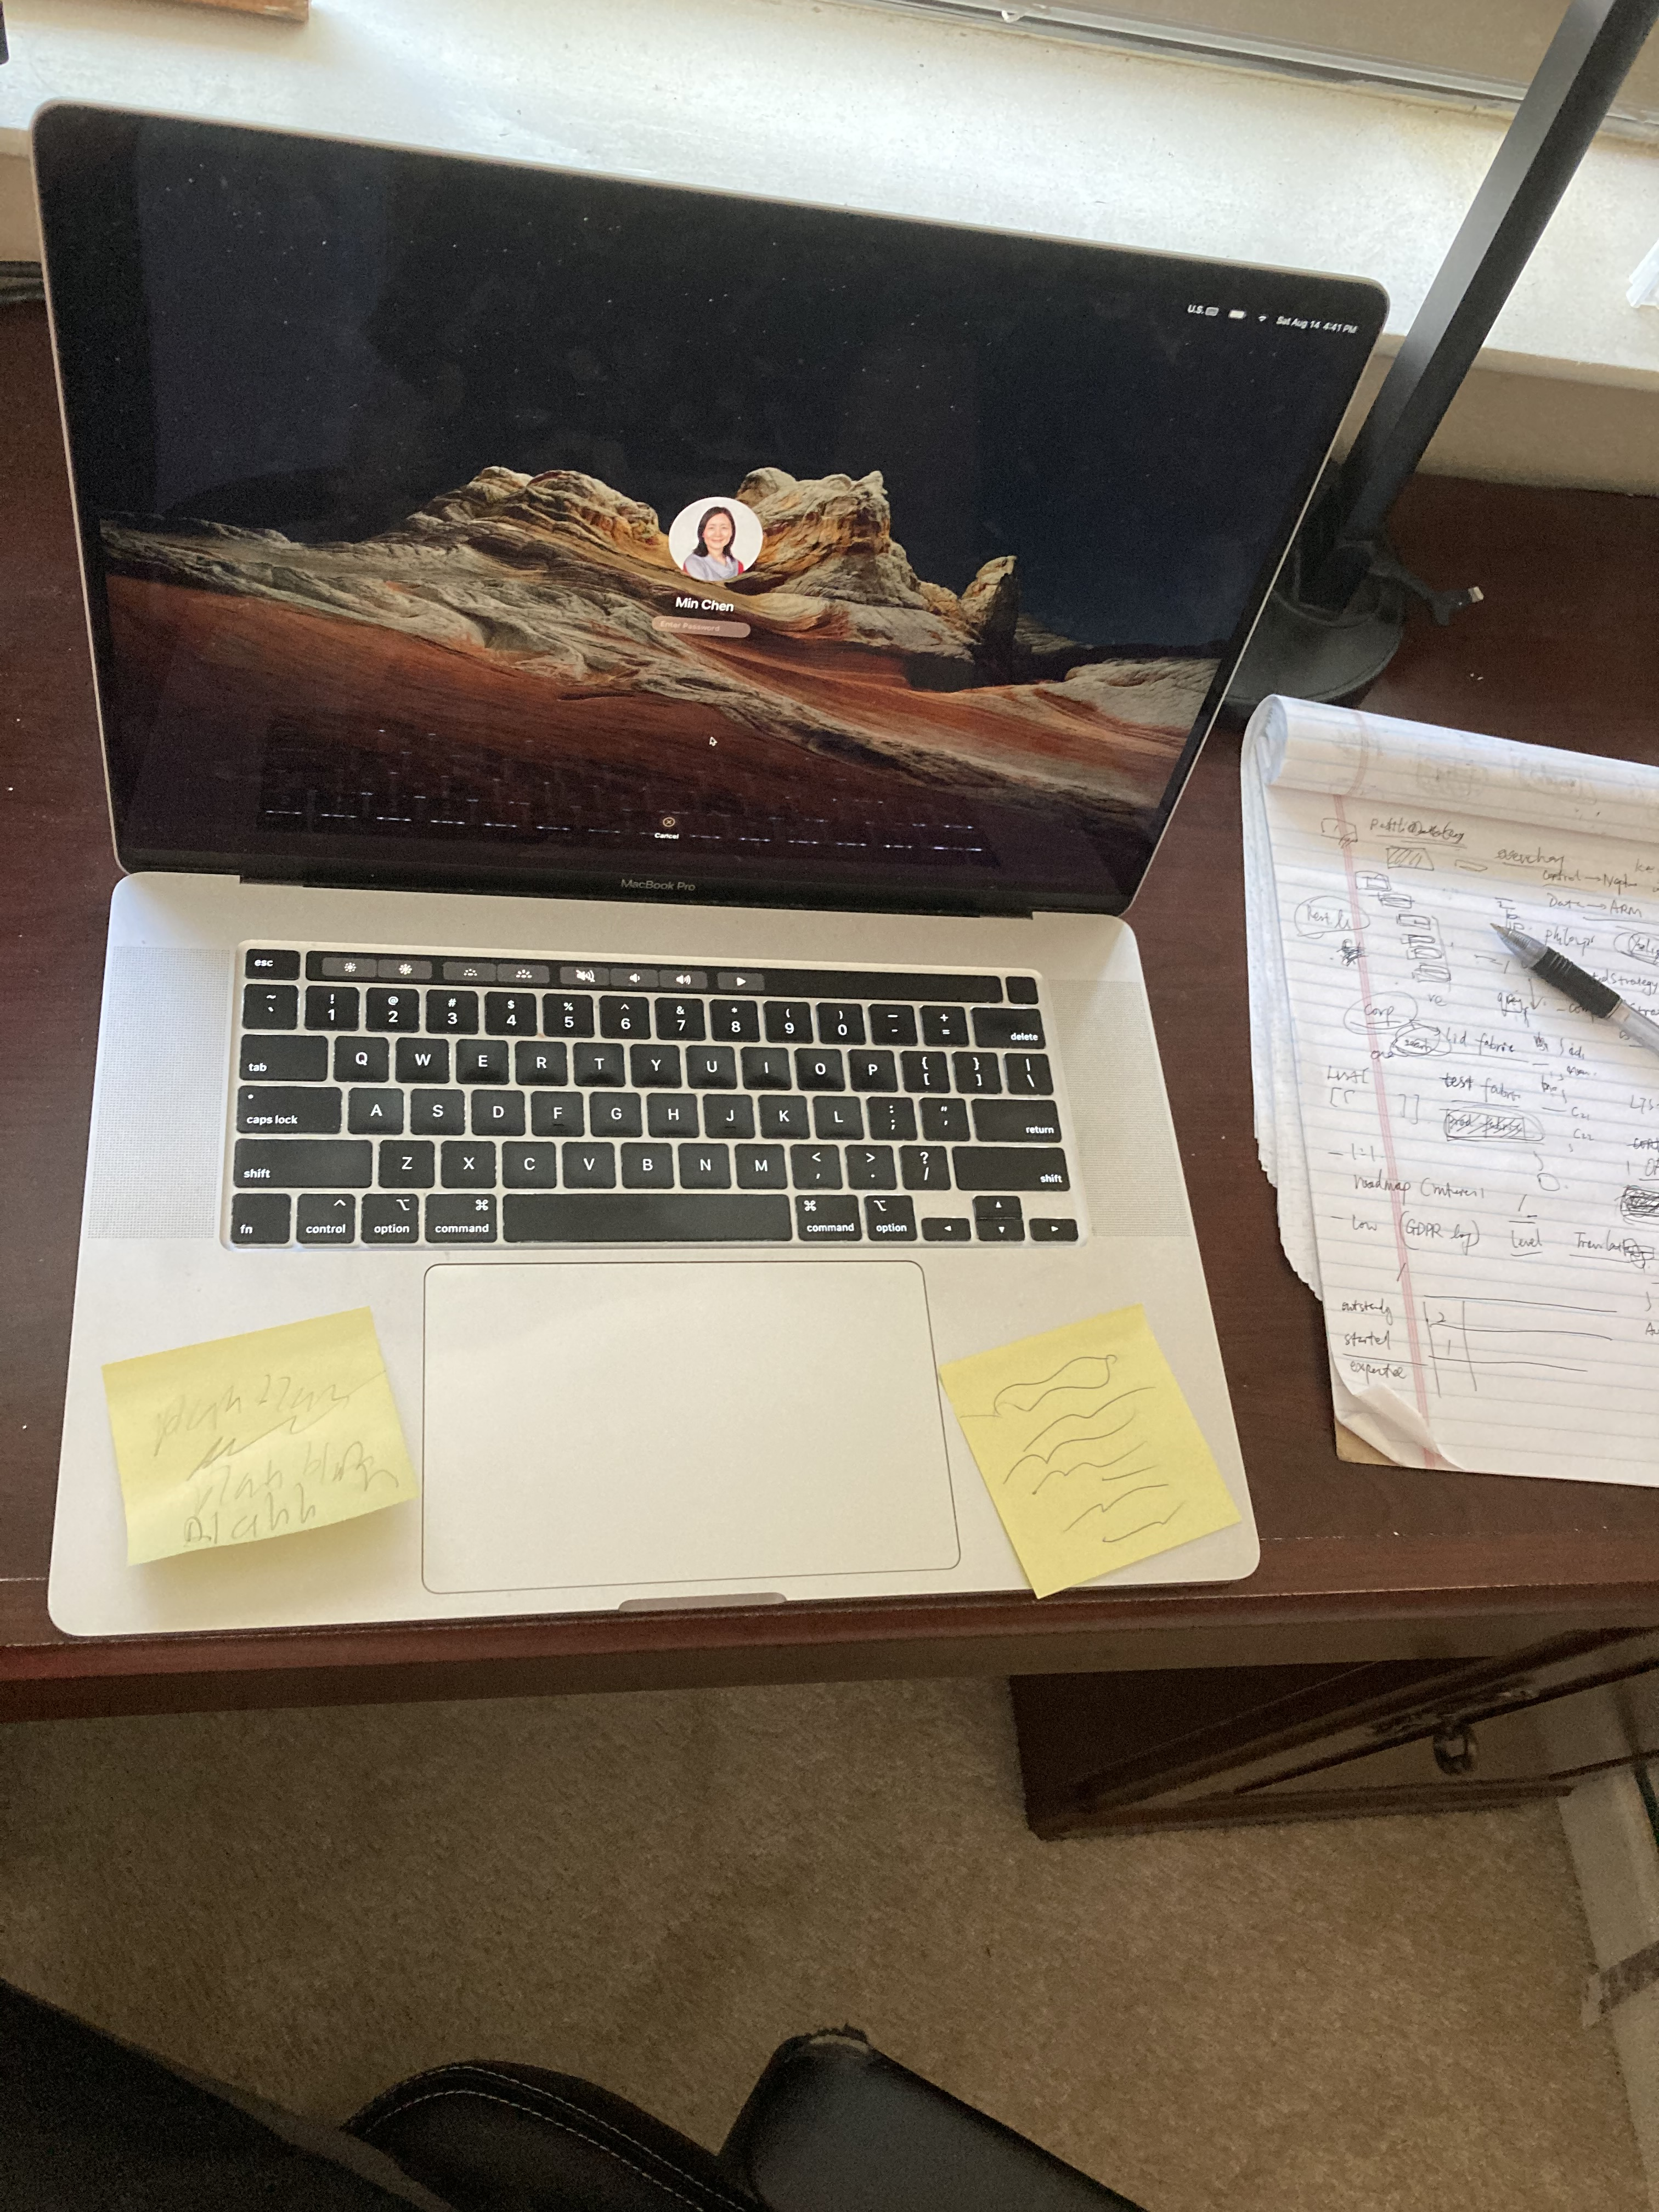Note: (950, 1312, 1243, 1594), (106, 1318, 416, 1554)
